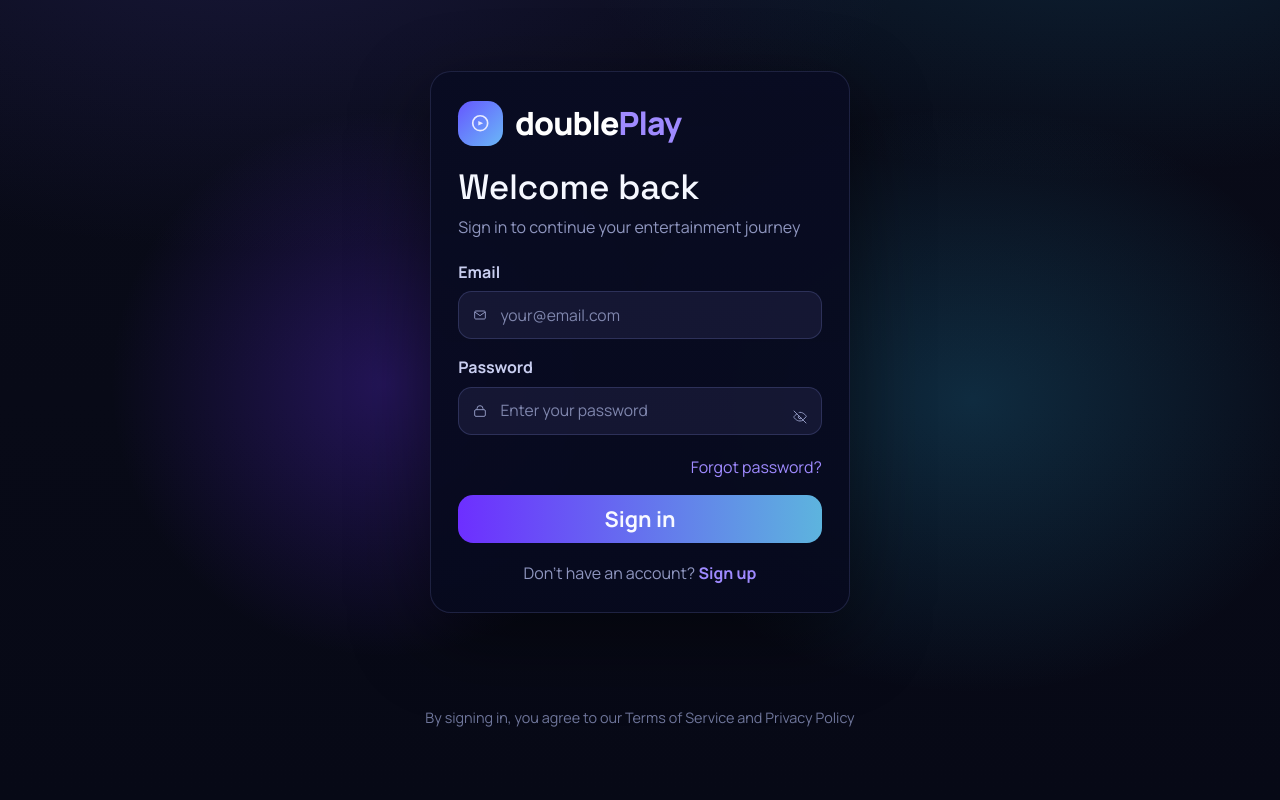
Test case: Login page › shows the login form and navigates to register
Expected: the heading "Welcome back" is shown, [458,164,699,209]
Expected: the text "Sign in to continue your entertainment journey" is shown, [458,215,822,239]
Click the button named "Show password" at (800, 411), box [792,403,808,419]
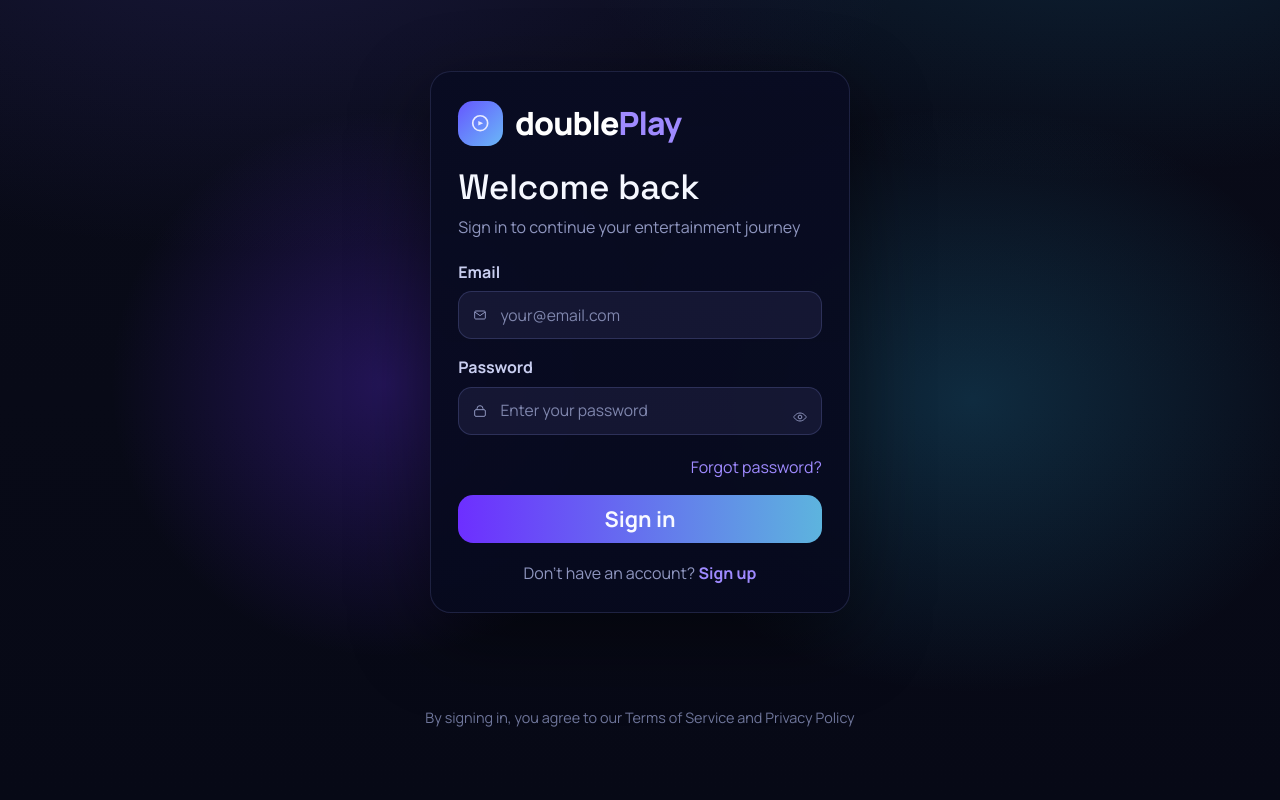
Click the link "Sign up" at (727, 573), box [698,562,756,584]
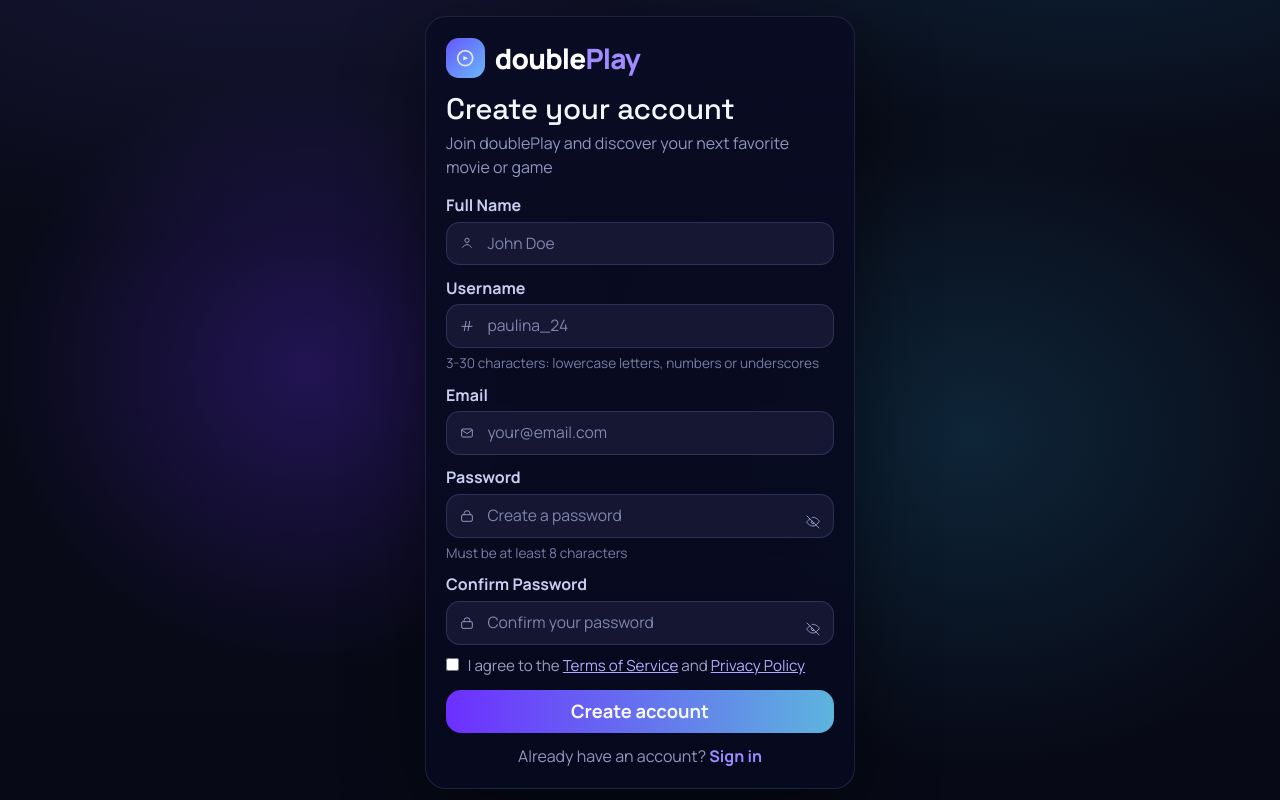
Result: the heading "Create your account" is shown at [446,90,735,128]
